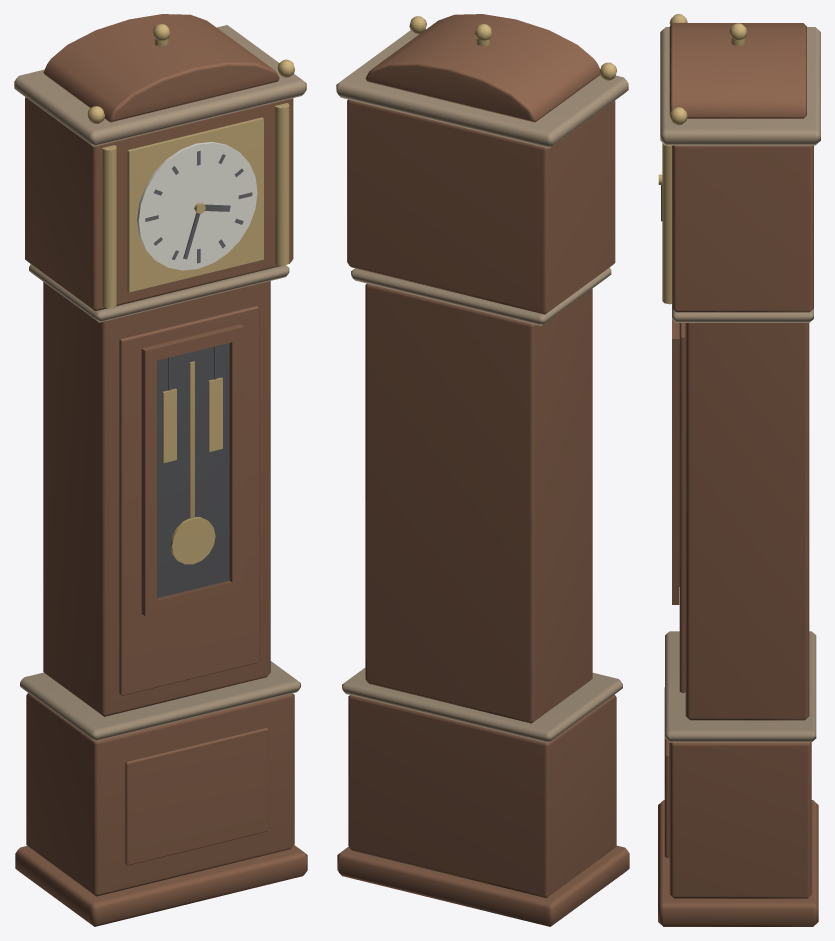
The model's file is hall_clock.glb.
The picture shows the model from 3 angles, left to right: view 1: azimuth 30°, elevation 25°; view 2: azimuth 150°, elevation 25°; view 3: azimuth 270°, elevation 25°; orthographic projection.
Parts seen in each view (by area): view 1: house_hall_clock; view 2: house_hall_clock; view 3: house_hall_clock.
Part boxes in pixels (x1,y1,x2,y2): house_hall_clock: (14, 14, 307, 926); house_hall_clock: (336, 14, 629, 926); house_hall_clock: (658, 14, 820, 926).
Bounding box in the file's own units: 0.55 × 2.05 × 0.355.
